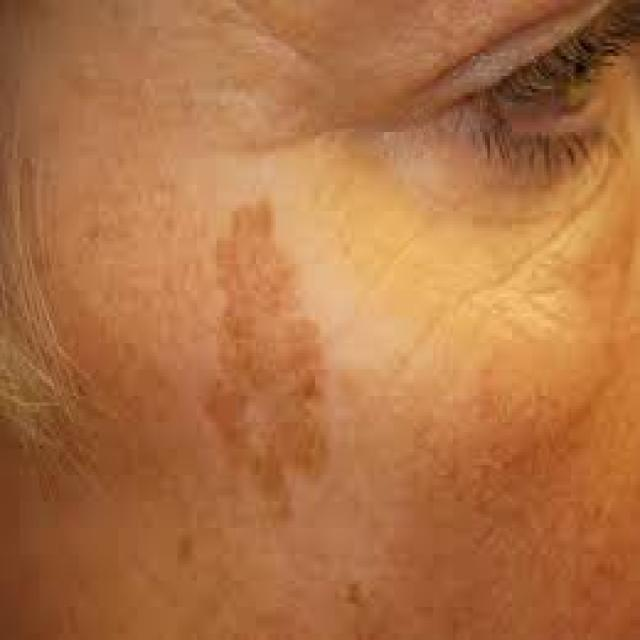pigmentation: (215, 195, 334, 511)
